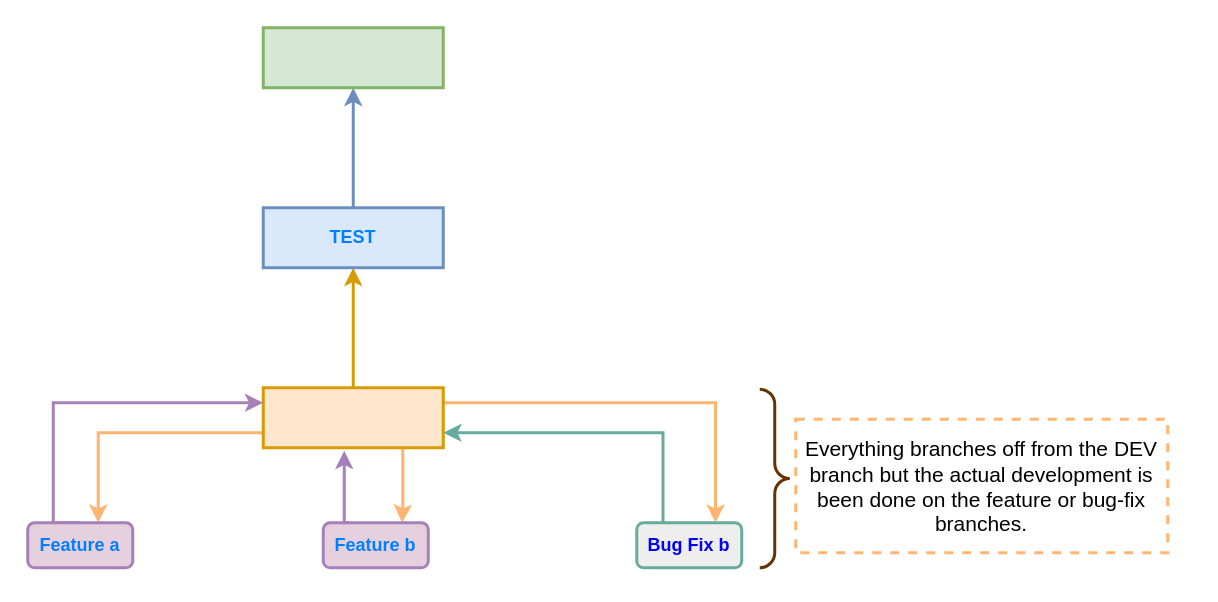
Some shapes in this 1218 by 602 pixel diagram are drawn without their labels. Here are the shapes that lost their labels. From the top down, the box of each, then its label:
(261, 26, 444, 88): MAIN
(261, 386, 444, 448): DEV
